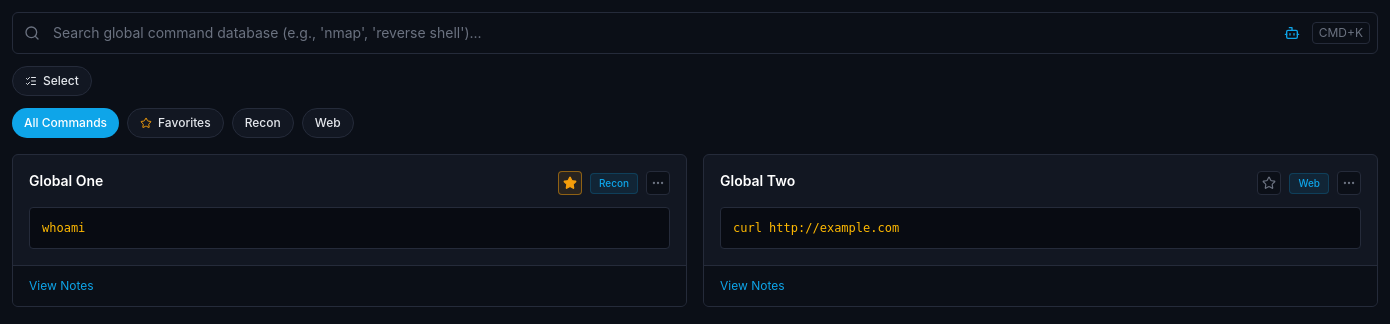
Scenario: CommandsLibrary favorites › filters global favorites with the favorites chip
Expected: the heading "Global One" is shown, [29,171,103,191]
Expected: the heading "Global Two" is shown, [720,171,795,191]
Click the button "Favorites" at (175, 123), box [127,108,224,138]
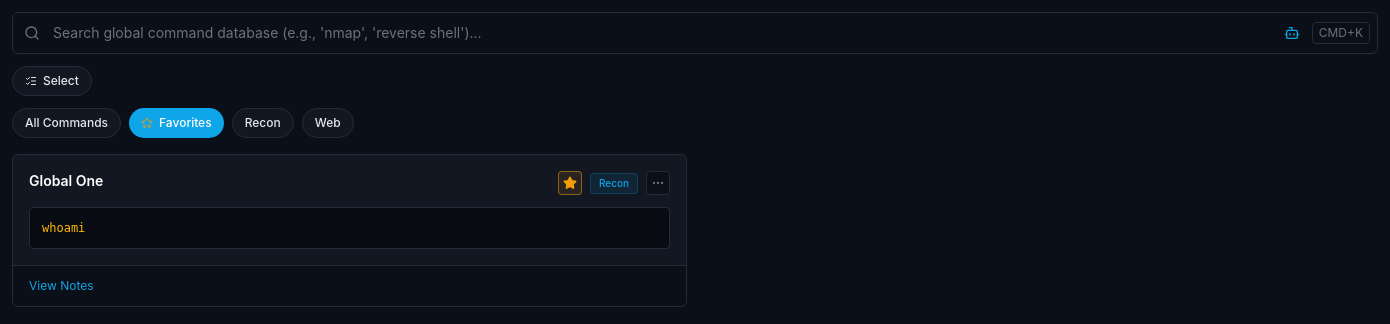
Expected: the heading "Global One" is shown, [29,171,103,191]
Result: the heading "Global Two" is gone
